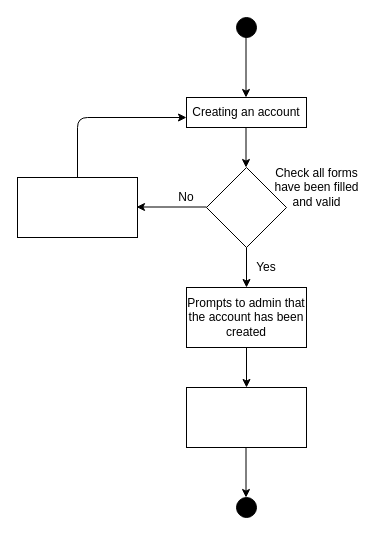
Some shapes in this 385 by 535 pixel diagram are drawn without their labels. The centre of each missing label's shape, as x and y in pixels:
Display new user's details: [246,417]
Prompt error message to admin that the data is incorrect: [77,207]
